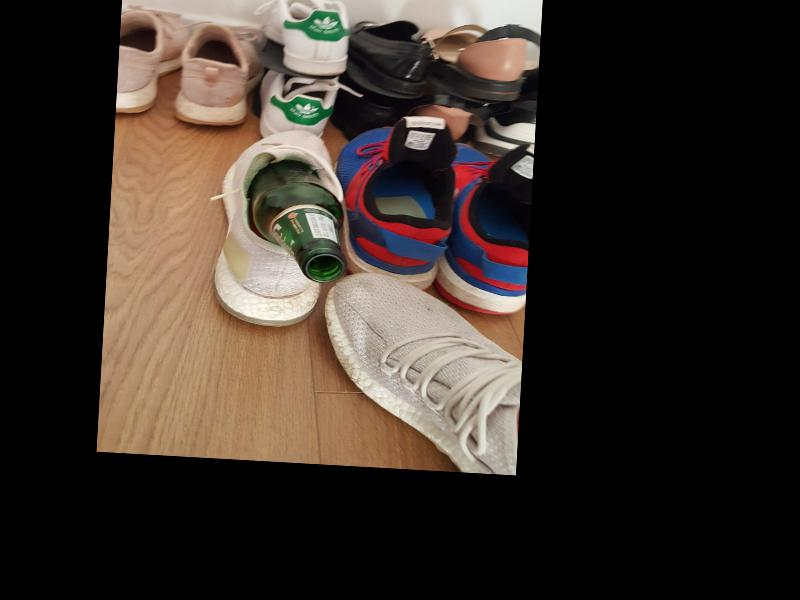Beer: (246, 159, 350, 283)
